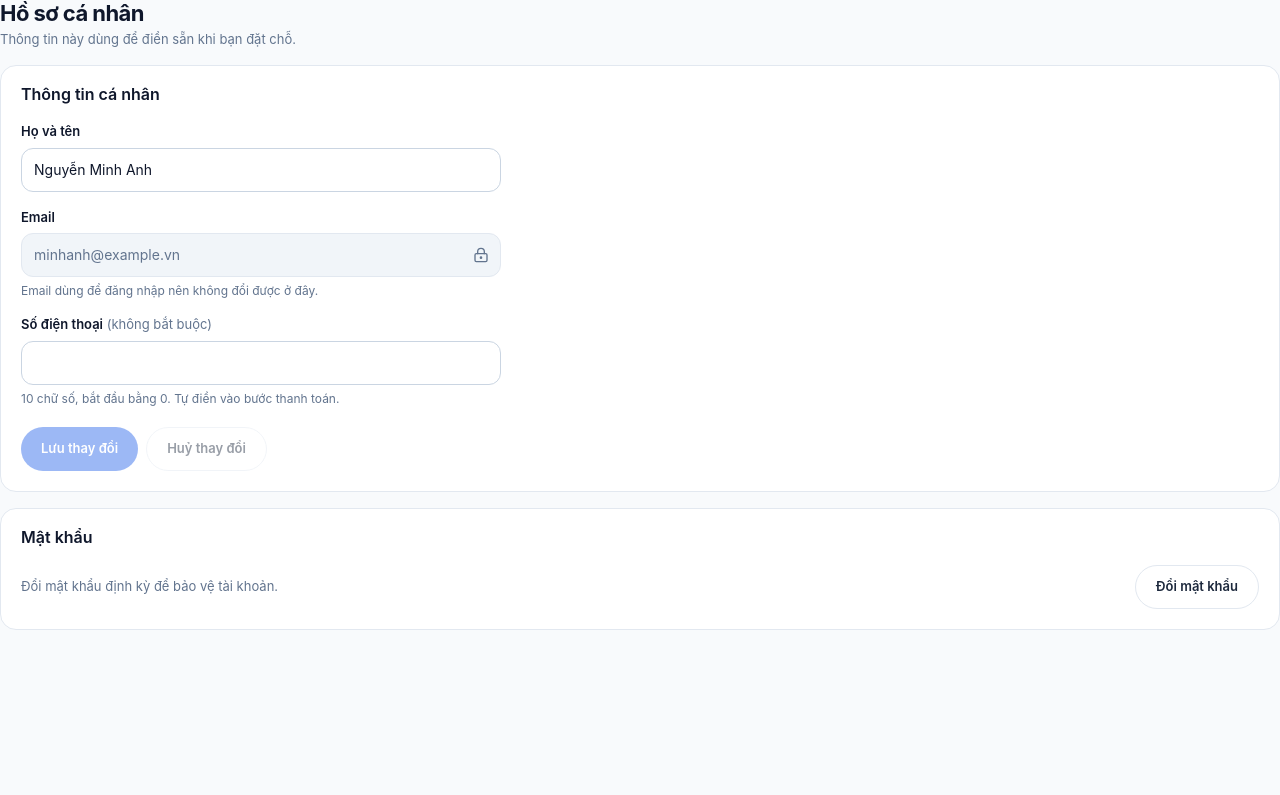
it: ProfileView — đổi mật khẩu › mở form khi bấm; mật khẩu mới ngắn hơn 8 ký tự bị chặn trong form, không gọi API
Click the button "Đổi mật khẩu": (1197, 586) [1135,564,1259,608]
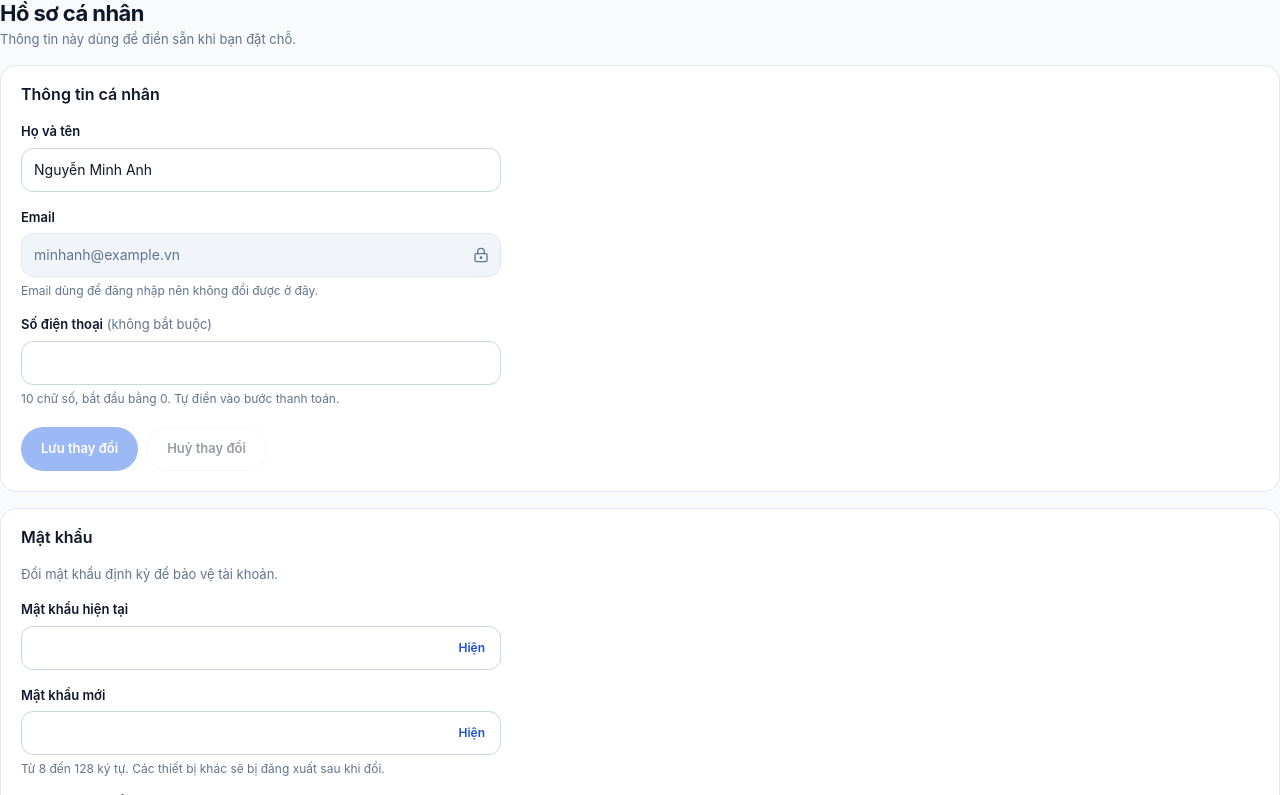
In the password field labelled "Mật khẩu hiện tại": (261, 648) [21,626,501,670], type "Demo@2026"
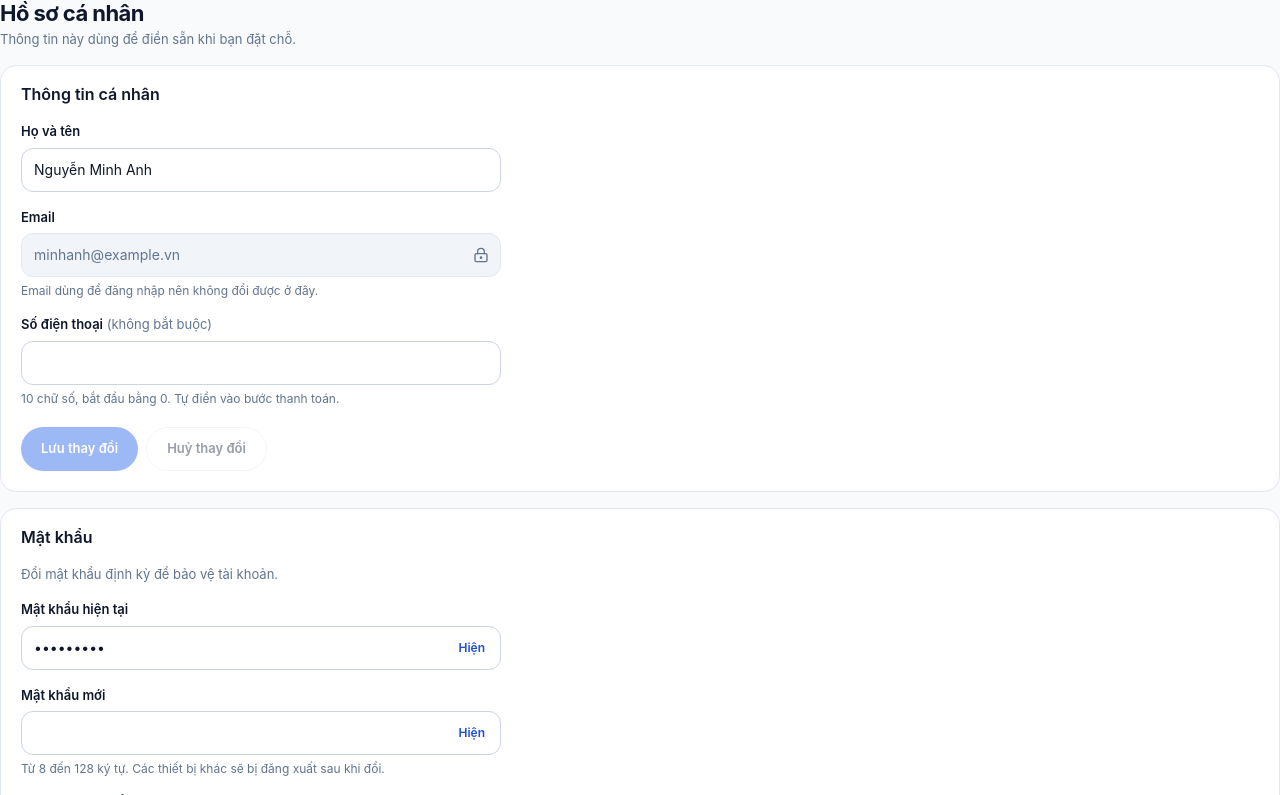
In the password field labelled "Mật khẩu mới": (261, 733) [21,711,501,755], type "1234567"
(page scrolled)
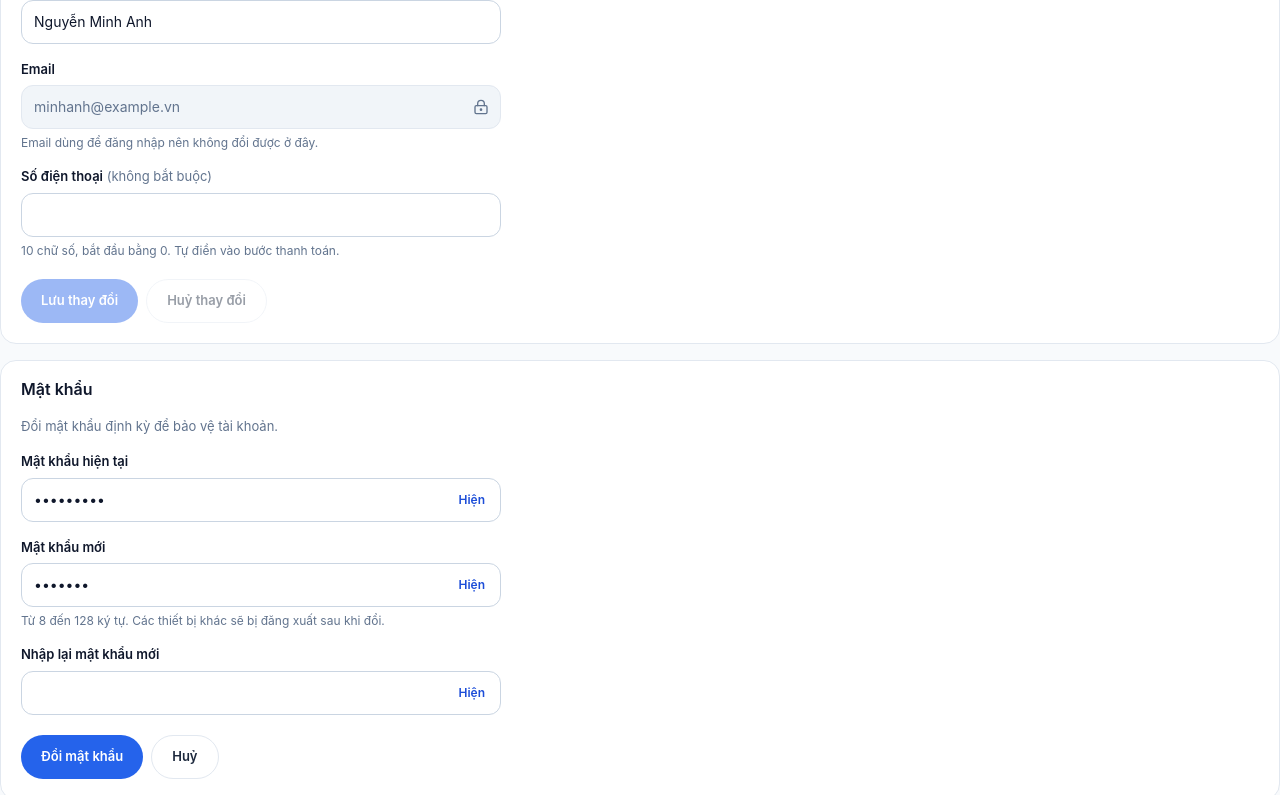
In the password field labelled "Nhập lại mật khẩu mới": (261, 692) [21,670,501,714], type "1234567"
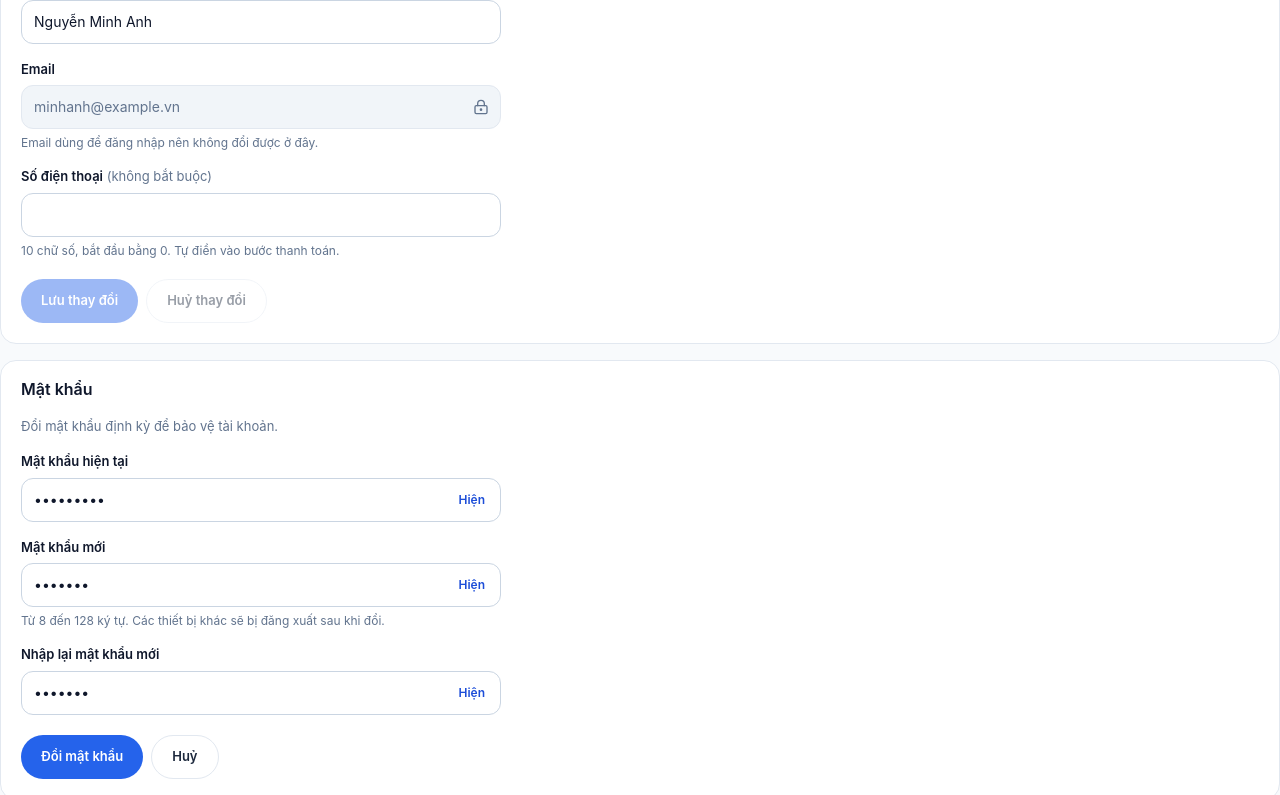
Click the button "Đổi mật khẩu": (82, 756) [21,734,143,778]
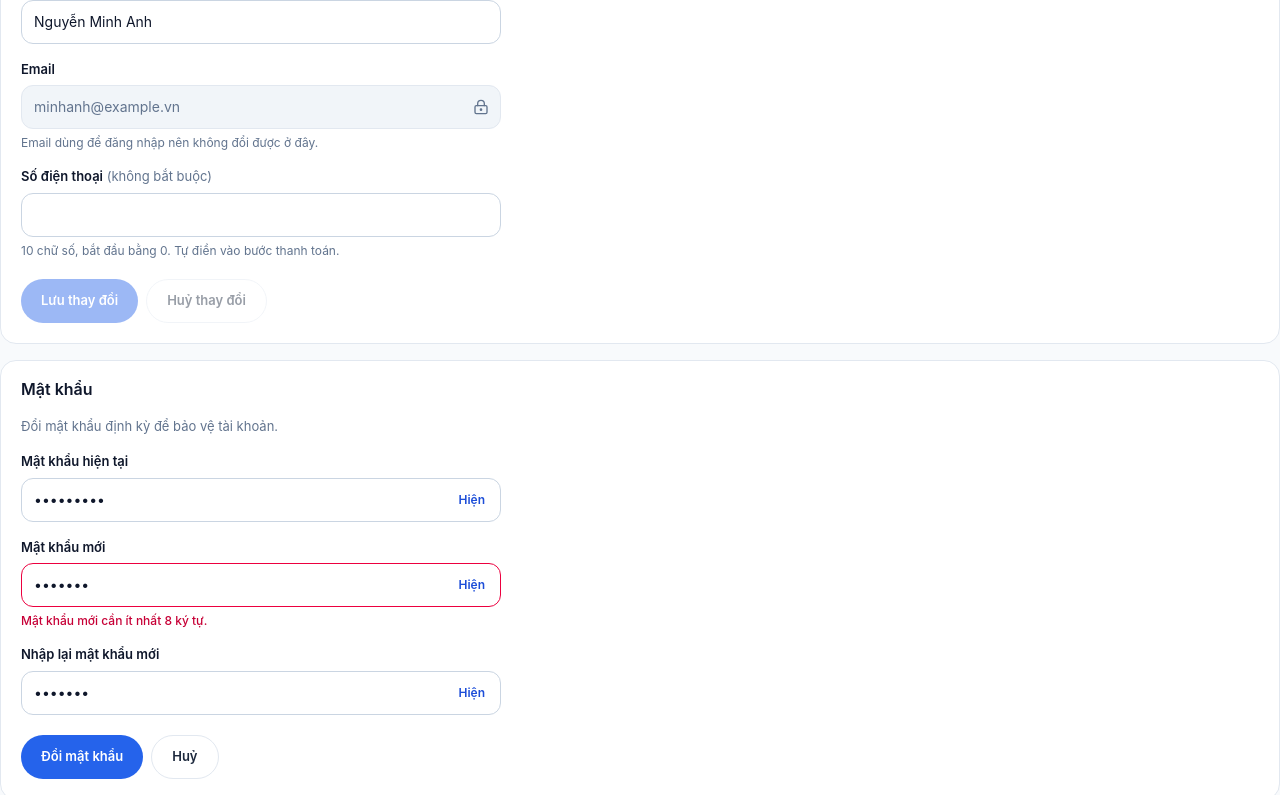
expect the text "Mật khẩu mới cần ít nhất 8 ký tự." is shown: met, box [21,613,207,628]
